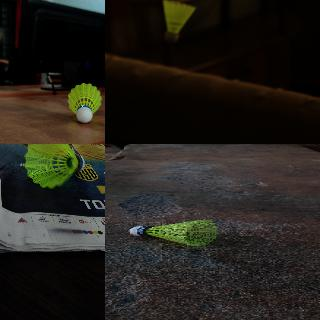shuttlecock: (24, 144, 85, 189), (126, 219, 218, 247), (162, 0, 197, 43), (67, 82, 101, 122)
